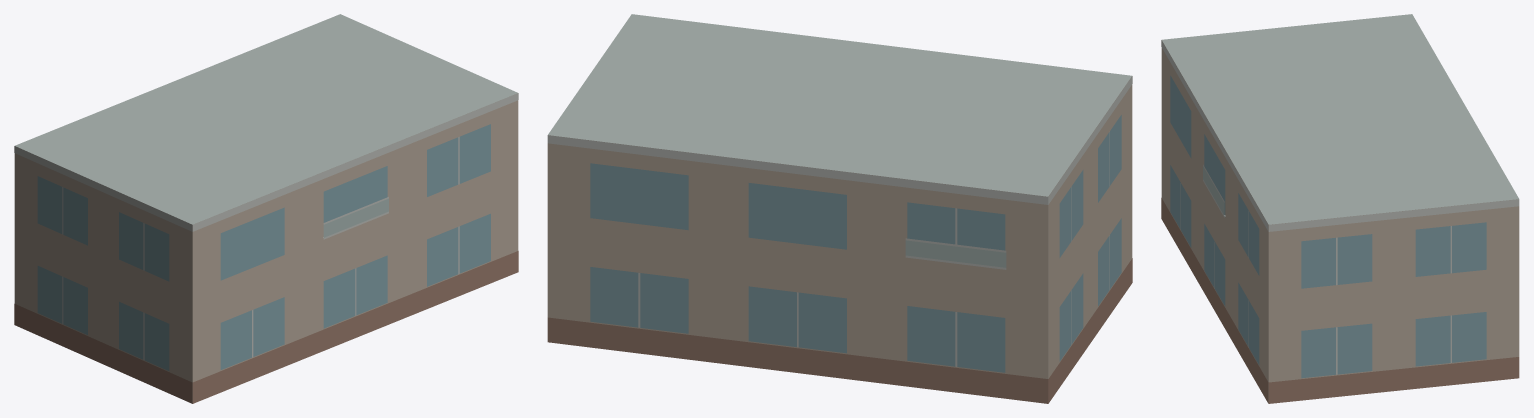
The model's file is survey-upis-32696045.glb.
The picture shows the model from 3 angles, left to right: view 1: azimuth 30°, elevation 25°; view 2: azimuth 150°, elevation 25°; view 3: azimuth 270°, elevation 25°; orthographic projection. The views are drawn at different scales.
Parts seen in each view (by area): view 1: survey-upis-32696045.tmp; view 2: survey-upis-32696045.tmp; view 3: survey-upis-32696045.tmp.
Boxes of the visible parts, x1=… form: survey-upis-32696045.tmp: x1=14, y1=14, x2=518, y2=403; survey-upis-32696045.tmp: x1=547, y1=14, x2=1132, y2=403; survey-upis-32696045.tmp: x1=1161, y1=14, x2=1519, y2=403.
Size of the model in its own units: 15.41 by 6.1 by 11.06.
